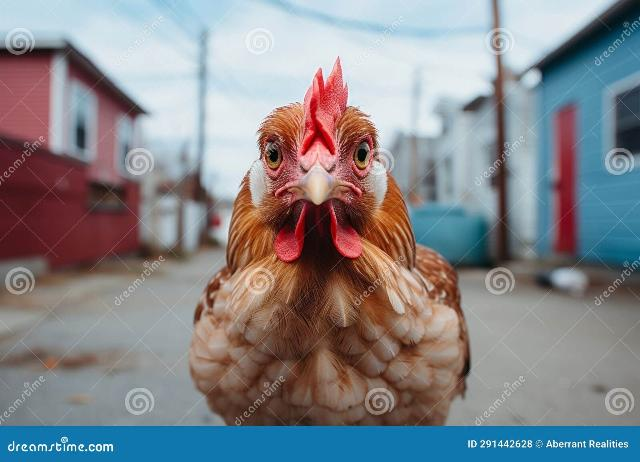Chicken: (188, 55, 471, 426)
